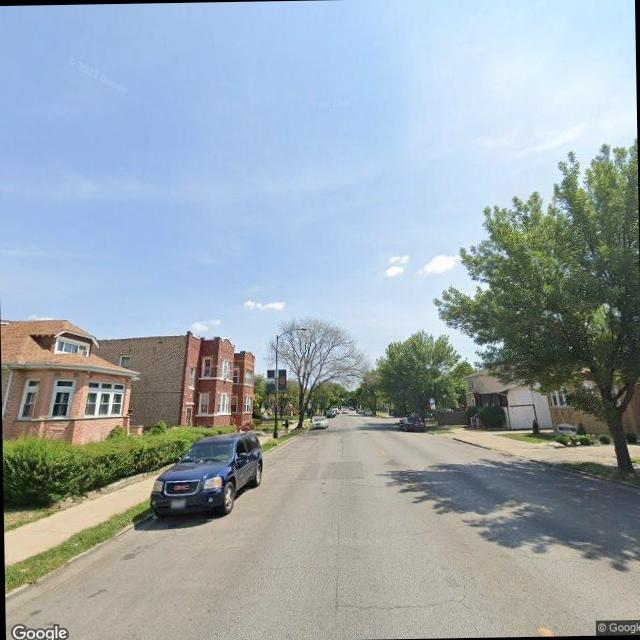crack: (334, 590, 462, 614)
